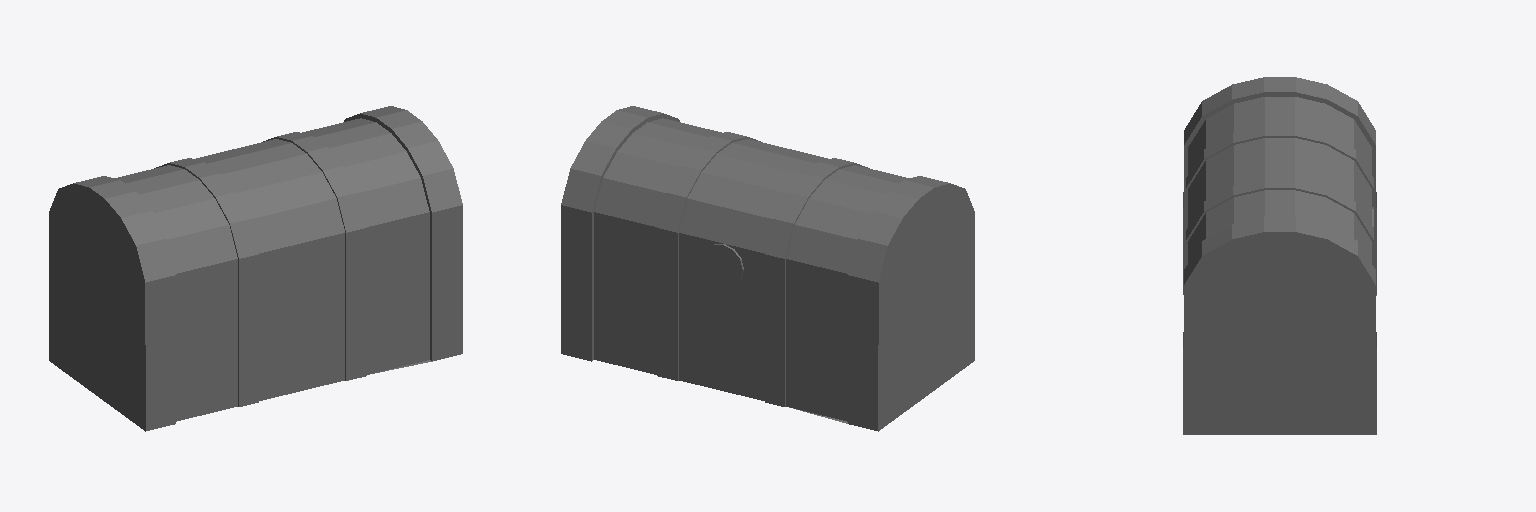
The model's file is treasure_chest.obj.
3 renders of one model, left to right at view 1: azimuth 30°, elevation 25°; view 2: azimuth 150°, elevation 25°; view 3: azimuth 270°, elevation 25°, orthographic.
Size of the model in its own units: 1.92 by 1.17 by 1.01.